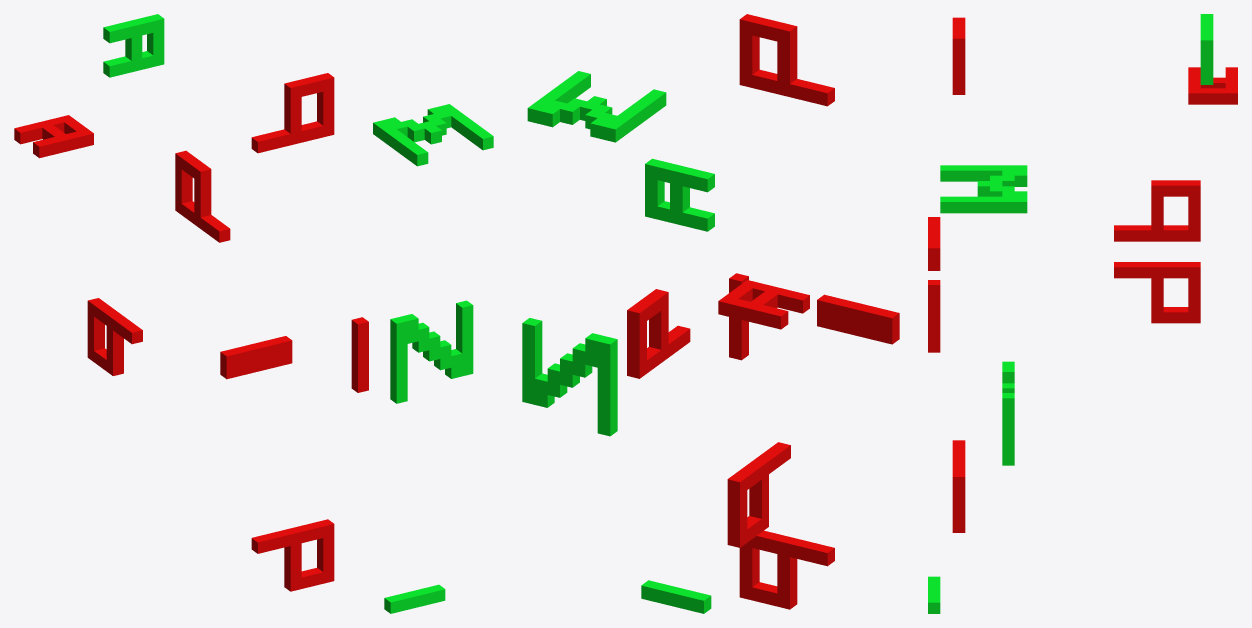
Rendered from CodeRed-0.obj.
3 views of the same model, side by side, from view 1: azimuth 30°, elevation 25°; view 2: azimuth 150°, elevation 25°; view 3: azimuth 270°, elevation 25° (orthographic). The views are drawn at different scales.
Size of the model in its own units: 3.1 by 4.7 by 2.5.
Materials: 1 (1 with a texture image).
